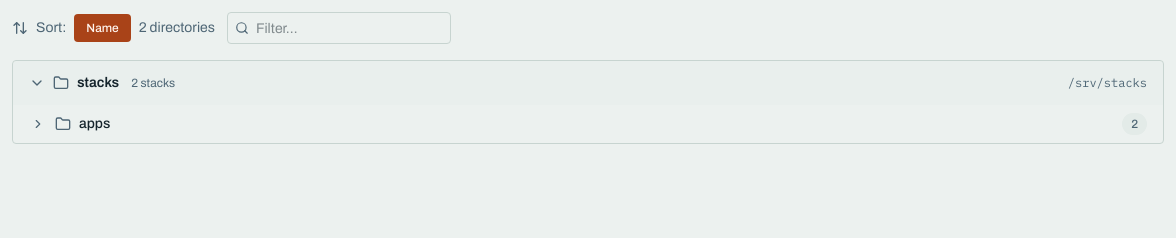
Test: DirectoriesTab — grouping and the tree › keeps a branching level as its own row
Expected: the text "apps" is shown, [79, 116, 110, 131]
What coordinates should you click on to do the following:
click the button named "Expand folder"
I would click on:
 (38, 124)
Its box is [29, 115, 47, 133].
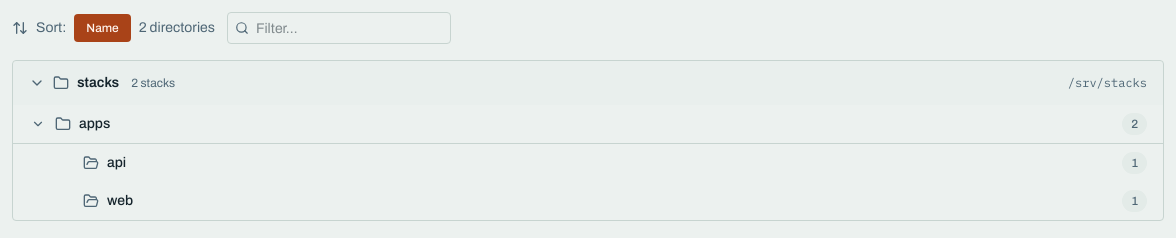
Expected: the text "web" is shown, [107, 193, 133, 208]
Expected: the text "api" is shown, [107, 155, 126, 170]
